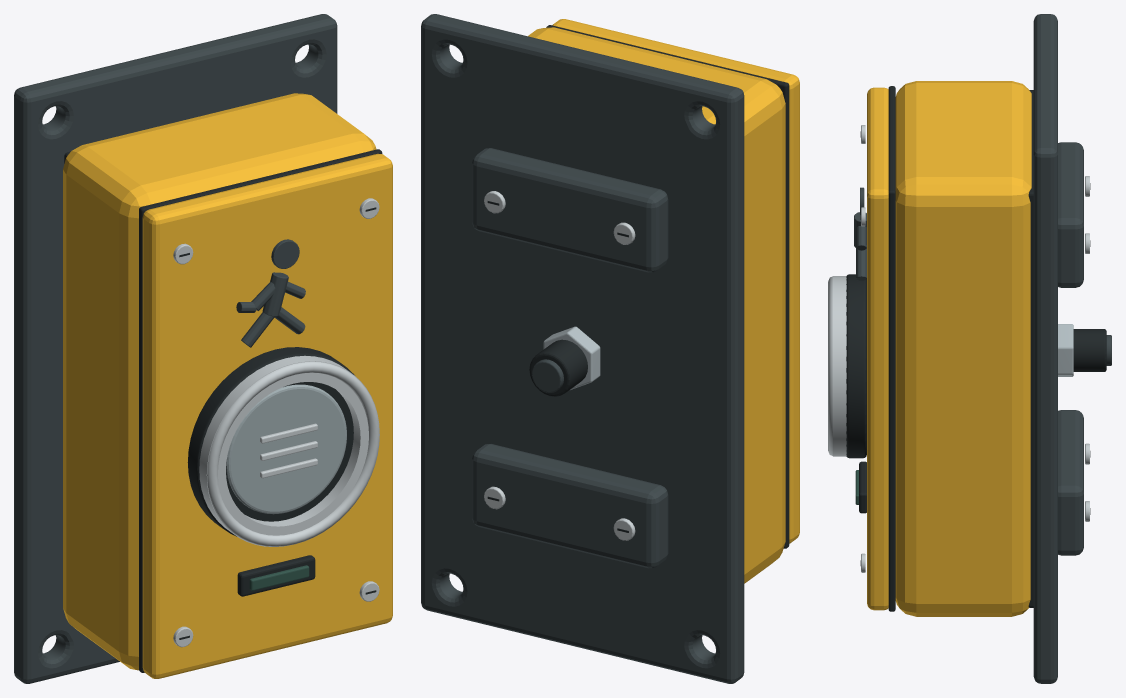
File: city-crossing-pushbutton.glb
3 views of the same model, side by side, from view 1: azimuth 30°, elevation 25°; view 2: azimuth 150°, elevation 25°; view 3: azimuth 270°, elevation 25° (orthographic). The views are drawn at different scales.
Visible parts, largest first — view 1: Enclosure / removable front cover, Enclosure / closed yellow housing, Enclosure / rear mounting flange, Button / recessed seal and protective guard, Button / static tactile press cap, Enclosure / generic pedestrian relief, Enclosure / unlit indicator and drain details, Enclosure / cover fixings; view 2: Enclosure / rear mounting flange, Mount / rear pads and cable entry, Enclosure / closed yellow housing, Enclosure / removable front cover; view 3: Enclosure / closed yellow housing, Enclosure / rear mounting flange, Enclosure / removable front cover, Mount / rear pads and cable entry, Button / recessed seal and protective guard, Enclosure / generic pedestrian relief, Enclosure / unlit indicator and drain details.
Part boxes in pixels (left/top/right/bottom): Enclosure / removable front cover: left=139, top=149, right=392, bottom=678; Enclosure / closed yellow housing: left=63, top=93, right=376, bottom=670; Enclosure / rear mounting flange: left=14, top=14, right=337, bottom=683; Button / recessed seal and protective guard: left=187, top=347, right=379, bottom=546; Button / static tactile press cap: left=226, top=384, right=346, bottom=514; Enclosure / generic pedestrian relief: left=236, top=239, right=305, bottom=347; Enclosure / unlit indicator and drain details: left=237, top=555, right=315, bottom=596; Enclosure / cover fixings: left=173, top=198, right=379, bottom=647; Enclosure / rear mounting flange: left=421, top=14, right=744, bottom=683; Mount / rear pads and cable entry: left=472, top=148, right=668, bottom=568; Enclosure / closed yellow housing: left=528, top=27, right=785, bottom=583; Enclosure / removable front cover: left=546, top=19, right=799, bottom=548; Enclosure / closed yellow housing: left=895, top=81, right=1033, bottom=616; Enclosure / rear mounting flange: left=1033, top=14, right=1057, bottom=683; Enclosure / removable front cover: left=867, top=86, right=895, bottom=611; Mount / rear pads and cable entry: left=1058, top=142, right=1111, bottom=555; Button / recessed seal and protective guard: left=828, top=274, right=866, bottom=458; Enclosure / generic pedestrian relief: left=854, top=187, right=866, bottom=280; Enclosure / unlit indicator and drain details: left=855, top=461, right=866, bottom=513.
Size of the model in its own units: 0.19 by 0.34 by 0.1633.
